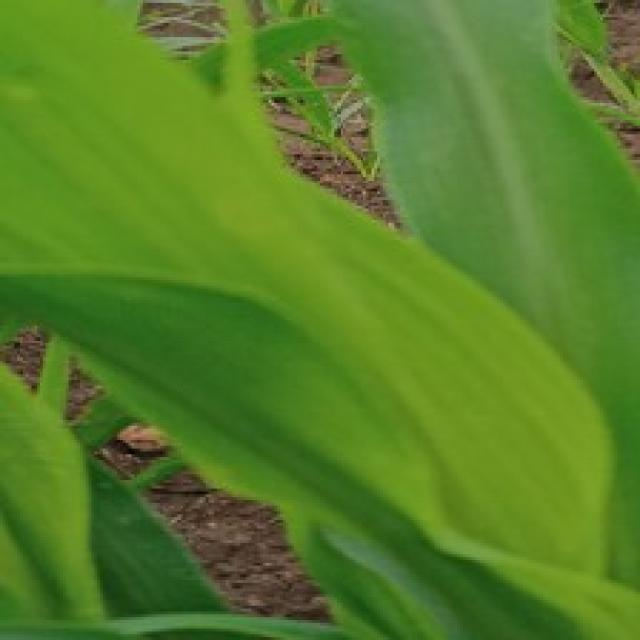Corn: (0, 0, 637, 637), (320, 0, 637, 591)
